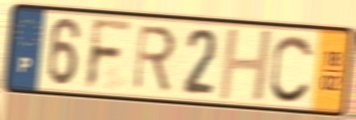2: (180, 26, 219, 99)
6: (47, 17, 83, 88)
C: (267, 32, 316, 106)
F: (83, 17, 136, 93)
H: (216, 27, 276, 103)
R: (131, 23, 179, 94)
